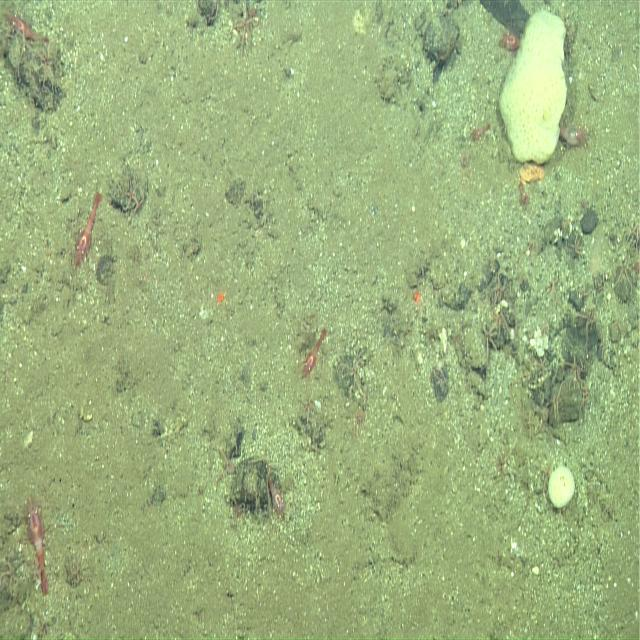Brittle Star: (64, 546, 90, 592)
Not Brittle Star: (497, 8, 569, 169), (18, 488, 56, 599), (69, 185, 106, 274), (1, 7, 52, 59), (295, 320, 332, 386), (263, 465, 290, 527), (555, 116, 594, 158), (546, 460, 576, 509), (466, 114, 494, 149), (494, 18, 521, 51)
